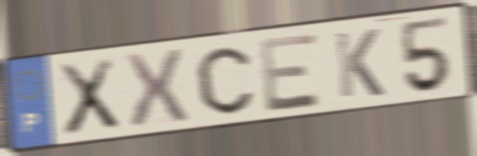5: (397, 14, 454, 97)
C: (193, 44, 256, 116)
E: (257, 29, 325, 115)
K: (331, 26, 387, 101)
X: (121, 46, 192, 133), (55, 55, 122, 140)
